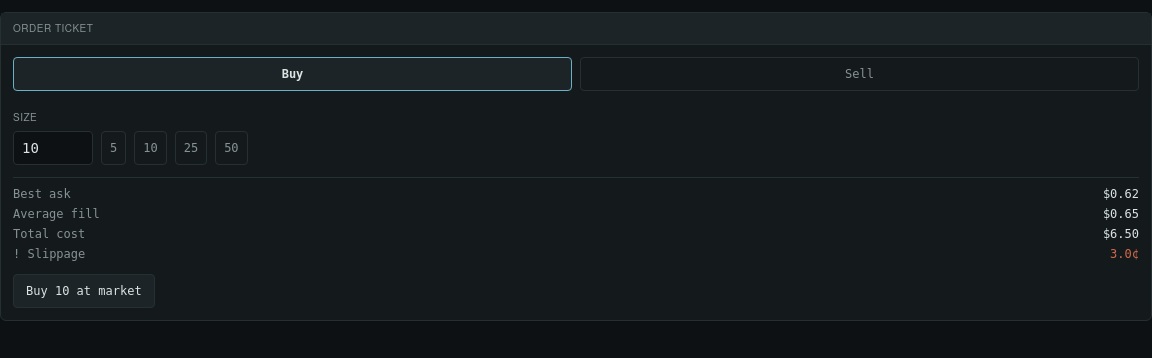
it: OrderTicket › says when the book cannot supply the size
Click the button "50".
click(231, 148)  # box [215,131,248,165]
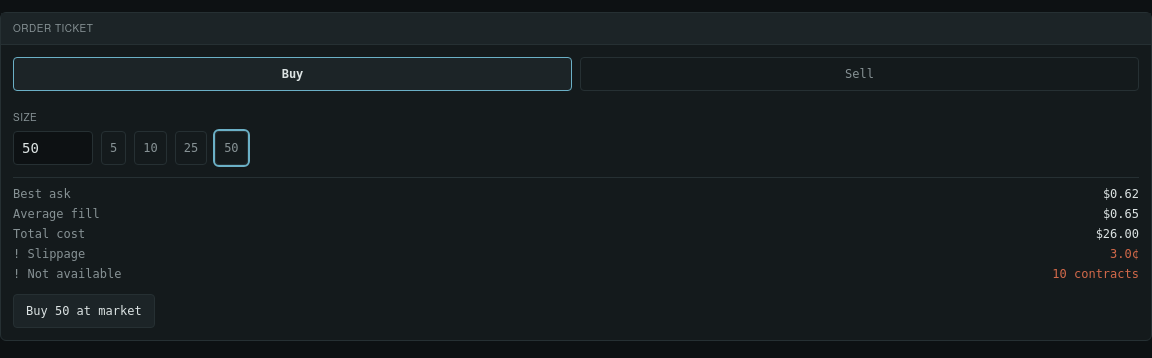
expect the text "10 contracts" is shown: met, box [1052,266,1139,282]
